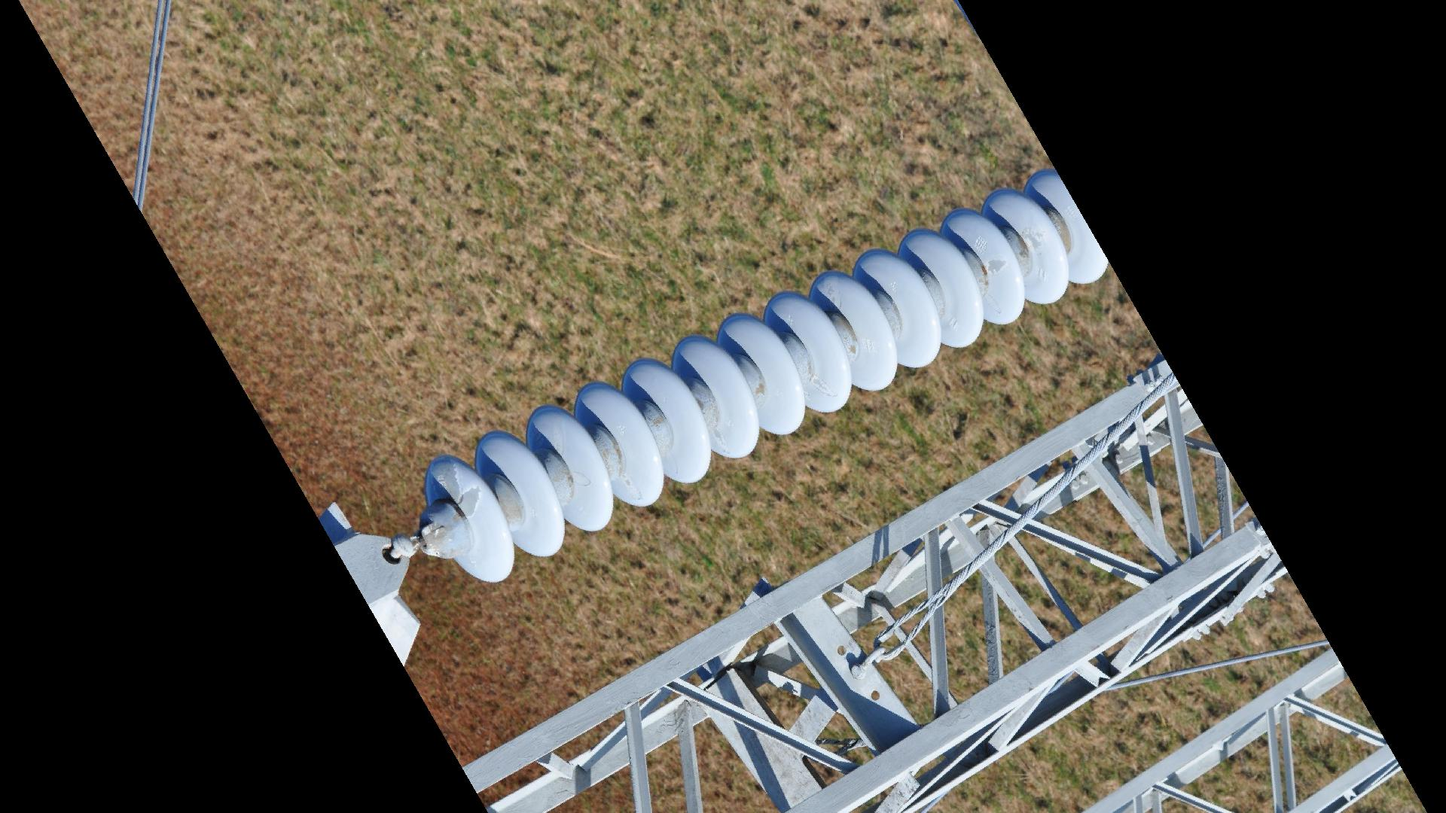insulator: (419, 163, 1115, 586)
insulator_flashover: (427, 453, 483, 519)
